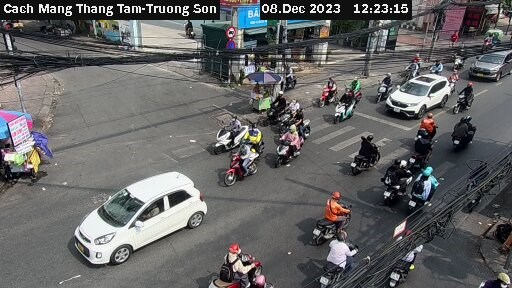car: (68, 170, 211, 262), (393, 71, 450, 116), (470, 44, 512, 81)
motorbike: (212, 242, 276, 288), (385, 234, 439, 284), (300, 188, 355, 235), (225, 144, 277, 191), (315, 236, 362, 288), (344, 134, 388, 172), (444, 118, 486, 157), (408, 170, 444, 214), (272, 129, 313, 167), (373, 161, 407, 205), (204, 115, 246, 147), (454, 81, 488, 116), (329, 93, 363, 125), (429, 53, 458, 80), (316, 81, 342, 107), (399, 62, 427, 86), (374, 75, 397, 101), (348, 80, 369, 106)
